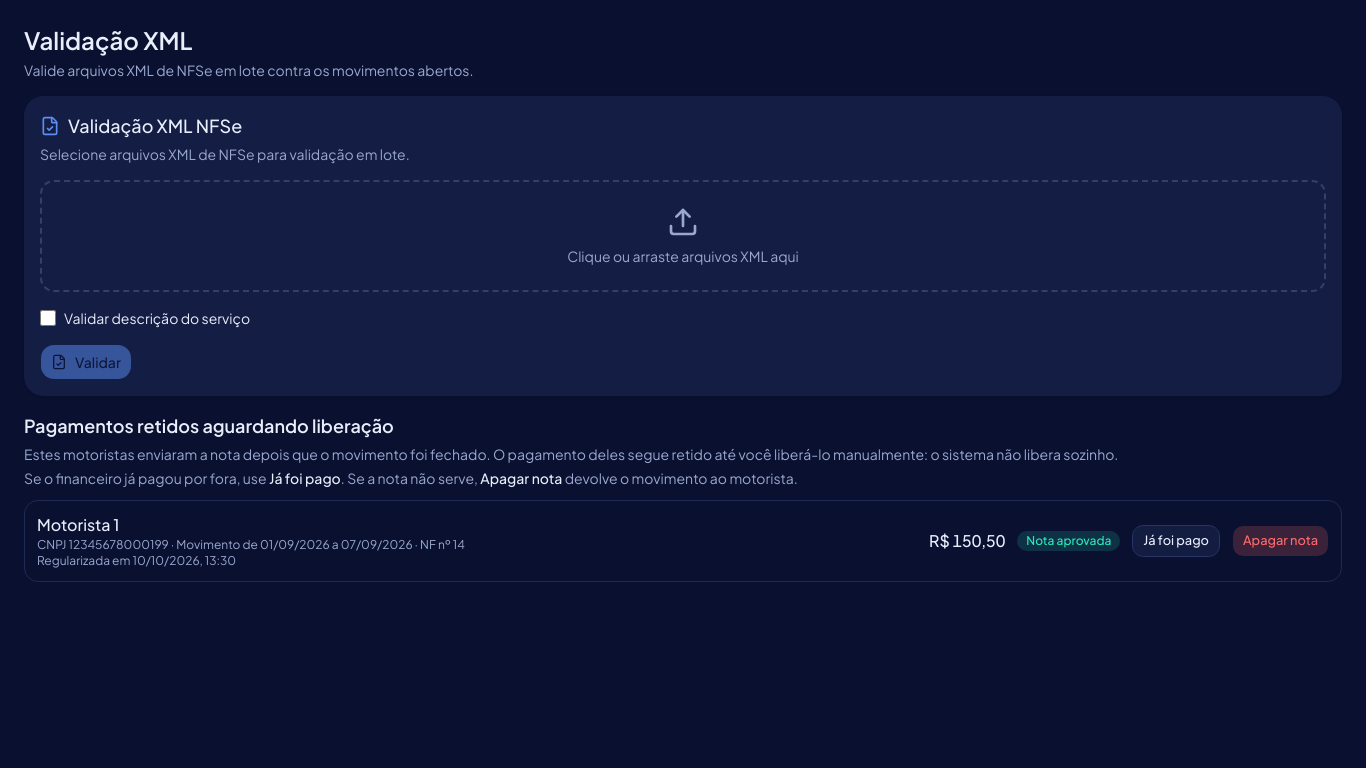
Test: ValidacaoXmlHubPage › ações do financeiro (Já foi pago / Apagar nota) › erro da API aparece dentro do diálogo
Click the button "Já foi pago". click: (1176, 541)
box: [1132, 525, 1220, 557]
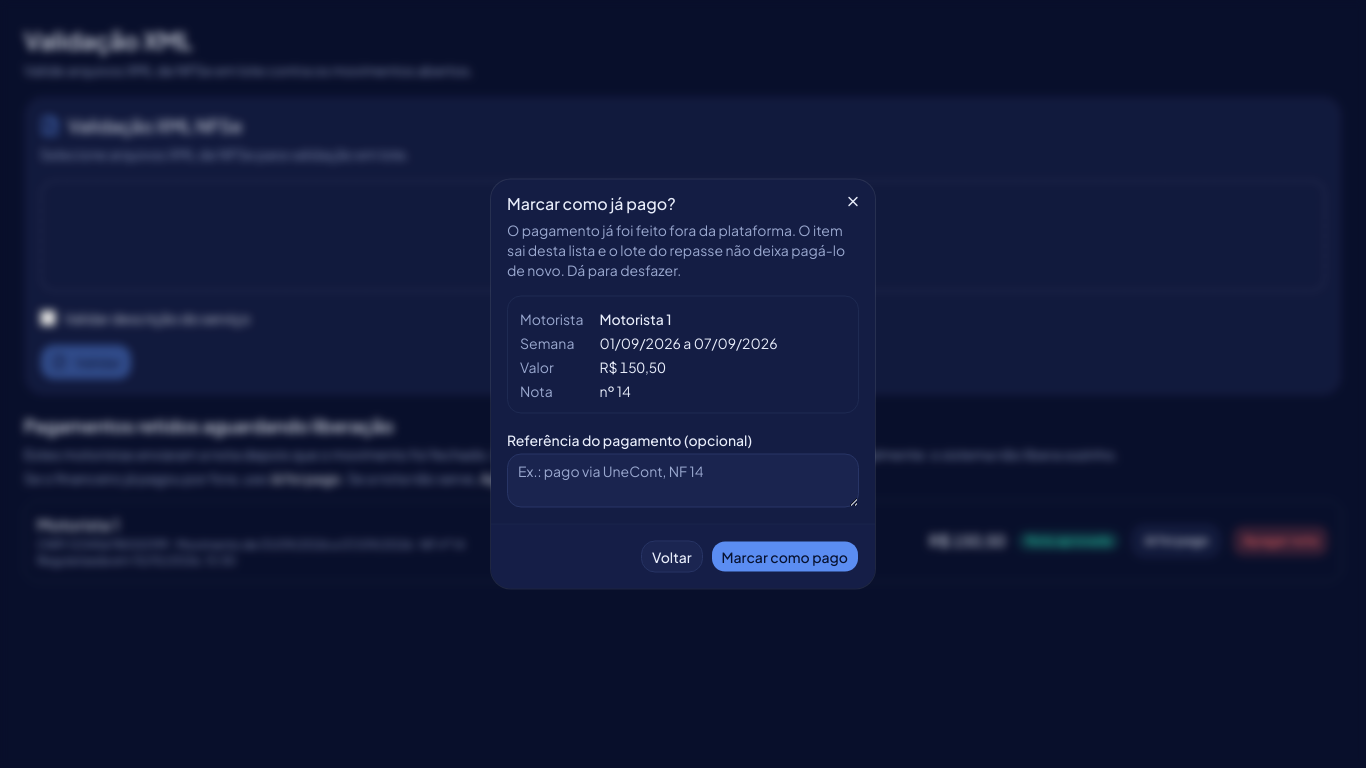
Click the button "Marcar como pago". click: (785, 556)
box: [711, 540, 859, 572]
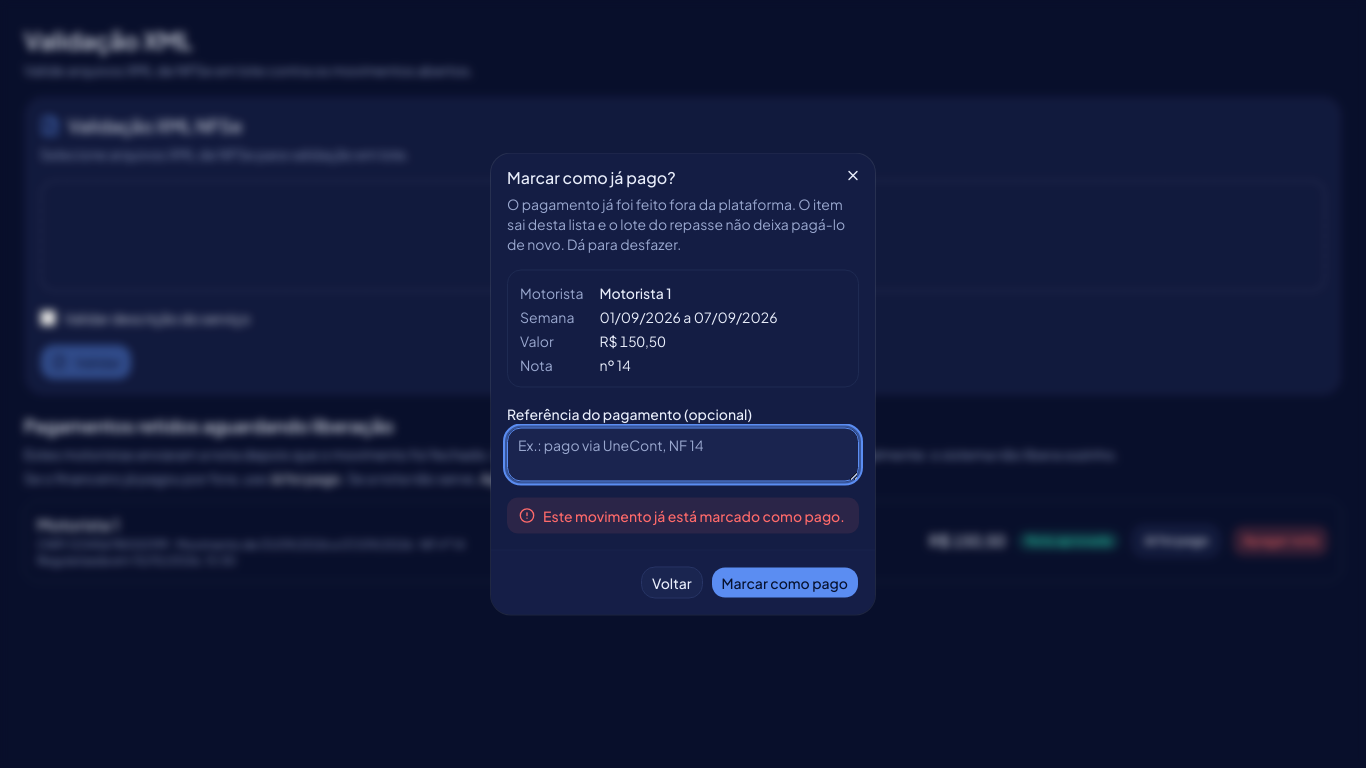
Now the message reads "Este movimento já está marcado como pago.", box [543, 506, 845, 524]
